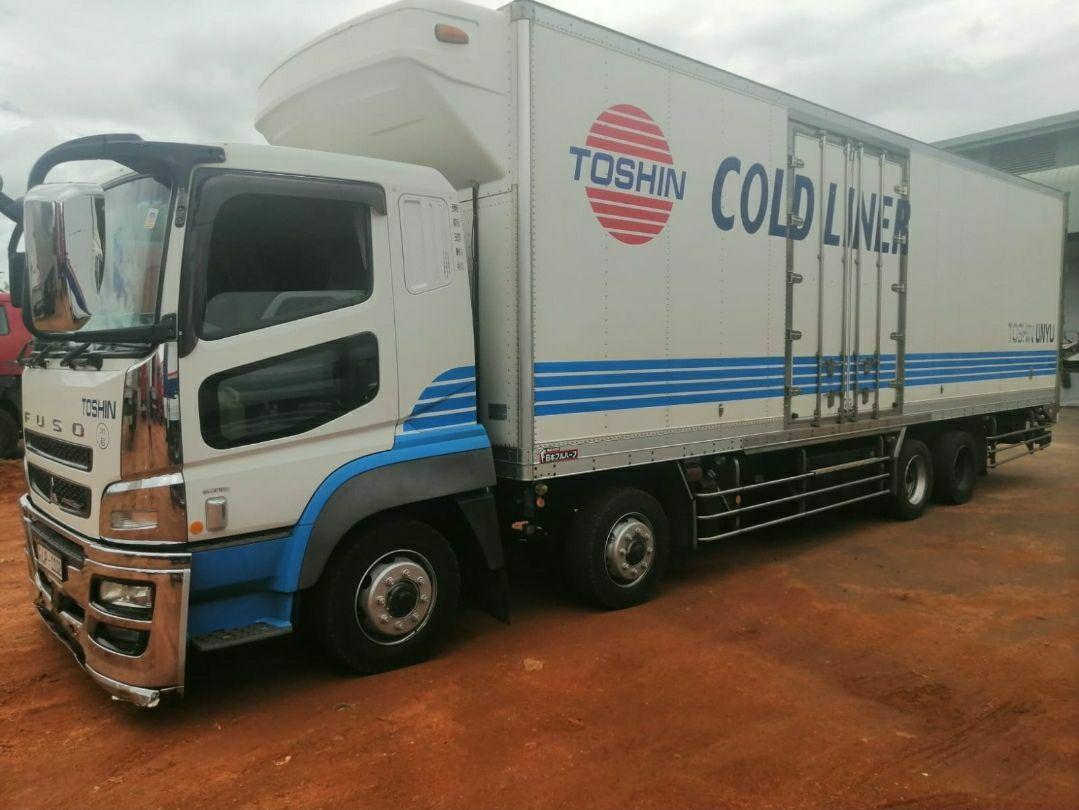truck: (18, 1, 1071, 705)
